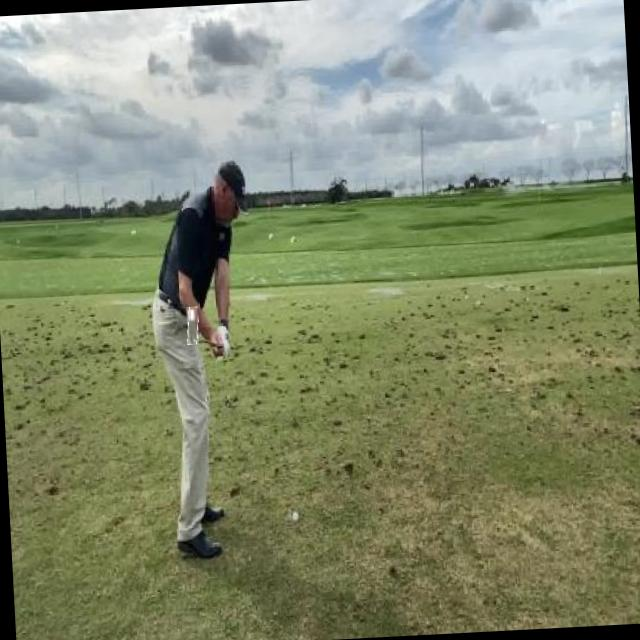club head: (186, 306, 199, 344)
